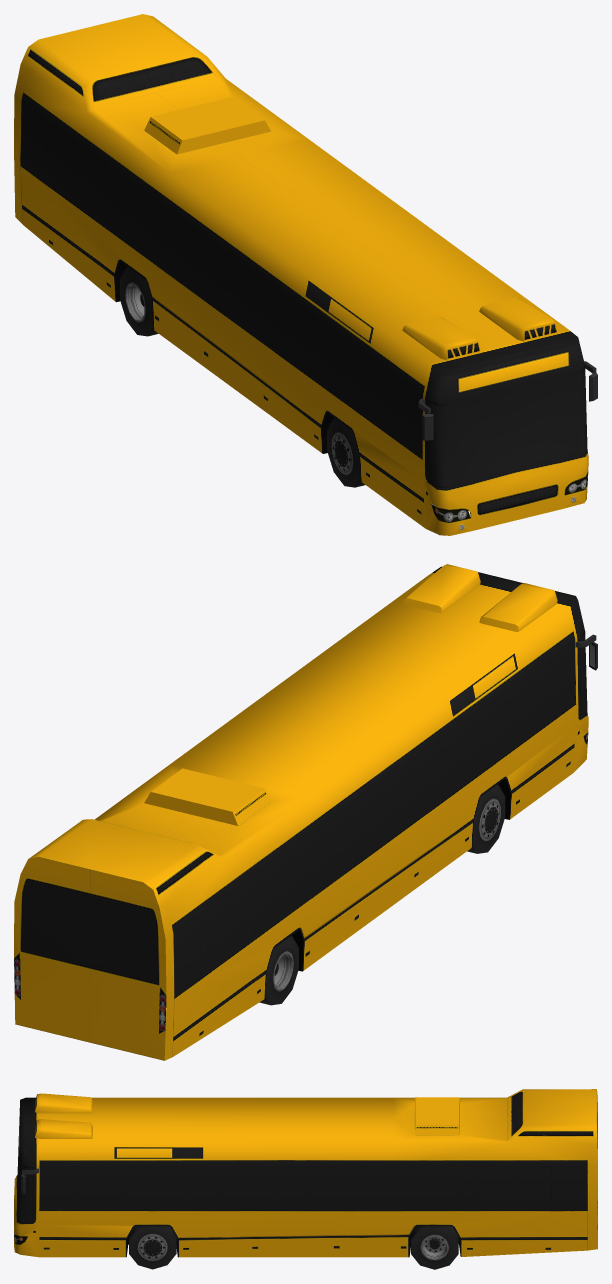
File: syj_car07.FBX
3 views of the same model, one above another, from view 1: azimuth 30°, elevation 25°; view 2: azimuth 150°, elevation 25°; view 3: azimuth 270°, elevation 25° (orthographic). The views are drawn at different scales.
Visible parts, largest first — view 1: syj_car07; view 2: syj_car07; view 3: syj_car07.
Part boxes in pixels (x1,y1,x2,y2): syj_car07: [14, 14, 597, 535]; syj_car07: [14, 564, 597, 1060]; syj_car07: [14, 1089, 597, 1269].
Bounding box in the file's own units: 282 × 316 × 1200.
